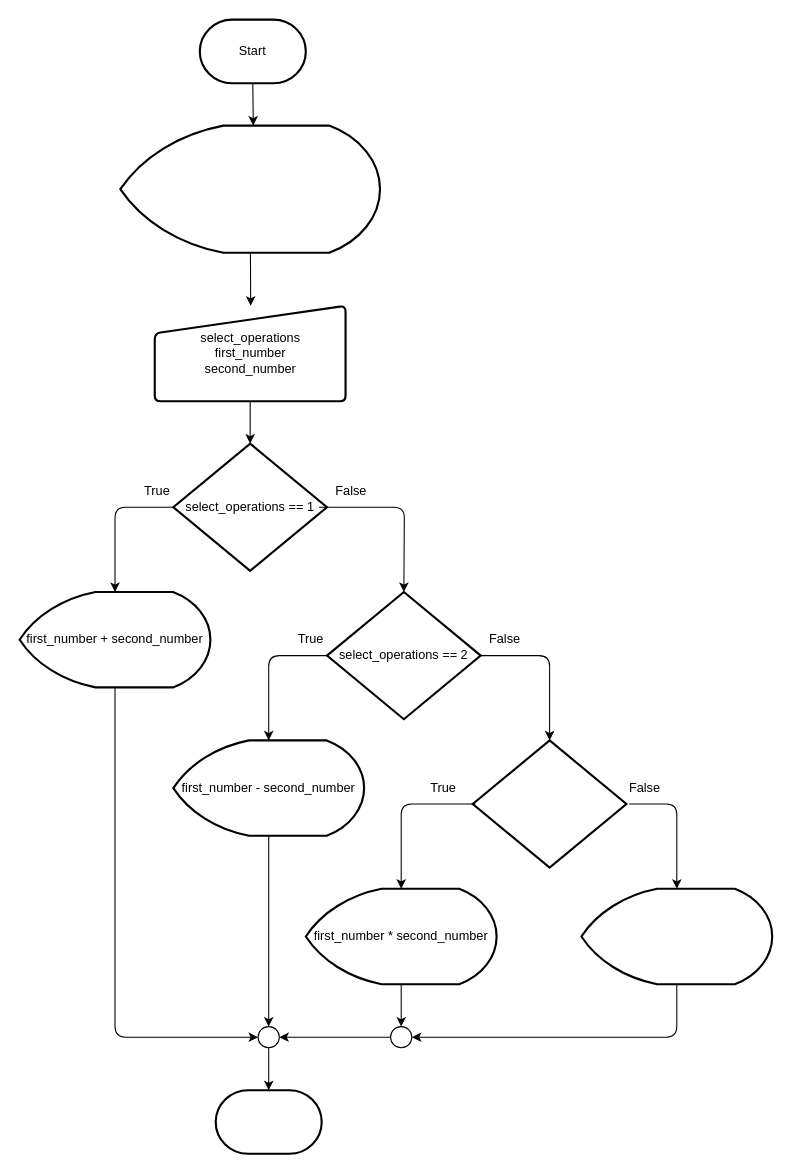
Image size: 791x1172. Some labels were removed from this diagram. The box of each missing label's shape, as (x1, y1, x2, y2) in pixels:
'''Please select operation - 1. Add 2. Subtract 3. Multiply 4. Divide ''': (119, 124, 381, 253)
End: (214, 1089, 322, 1154)
first_number / second_number: (580, 887, 773, 985)
select_operations == 3: (471, 739, 627, 868)
